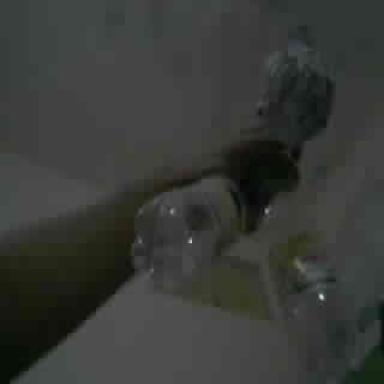bottle: (269, 232, 353, 381), (134, 178, 242, 290)
paper: (251, 26, 334, 157)
